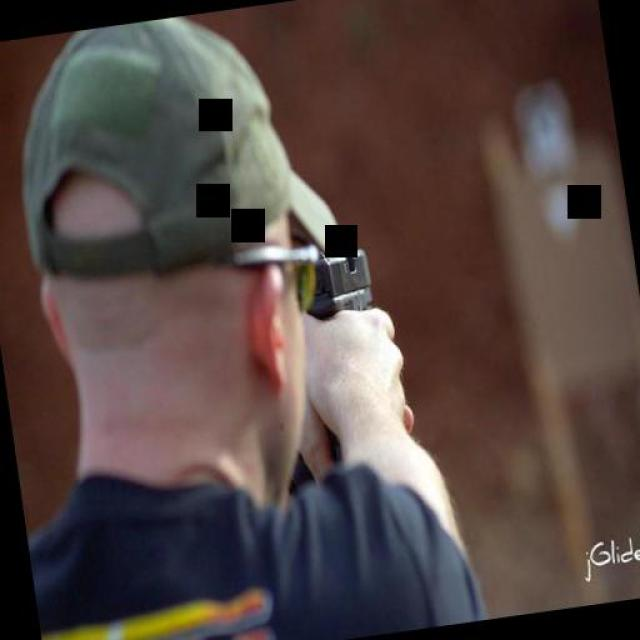gun: (292, 240, 378, 322)
